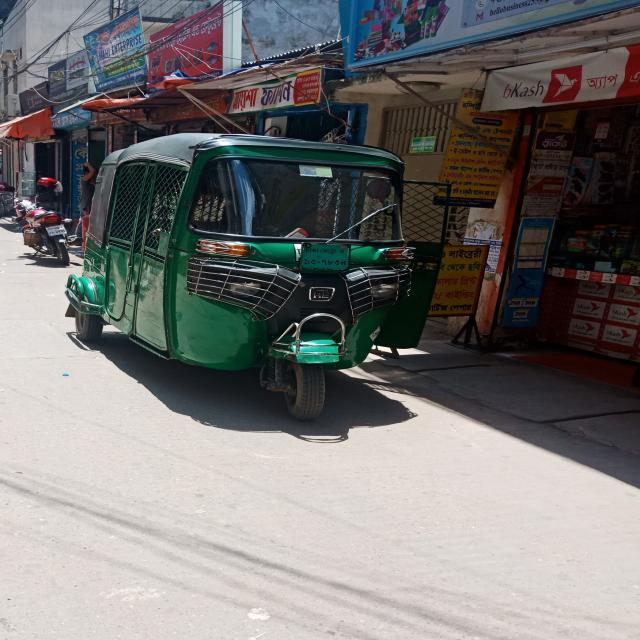CNG: (71, 94, 457, 438)
Motorbike: (3, 189, 73, 277)
